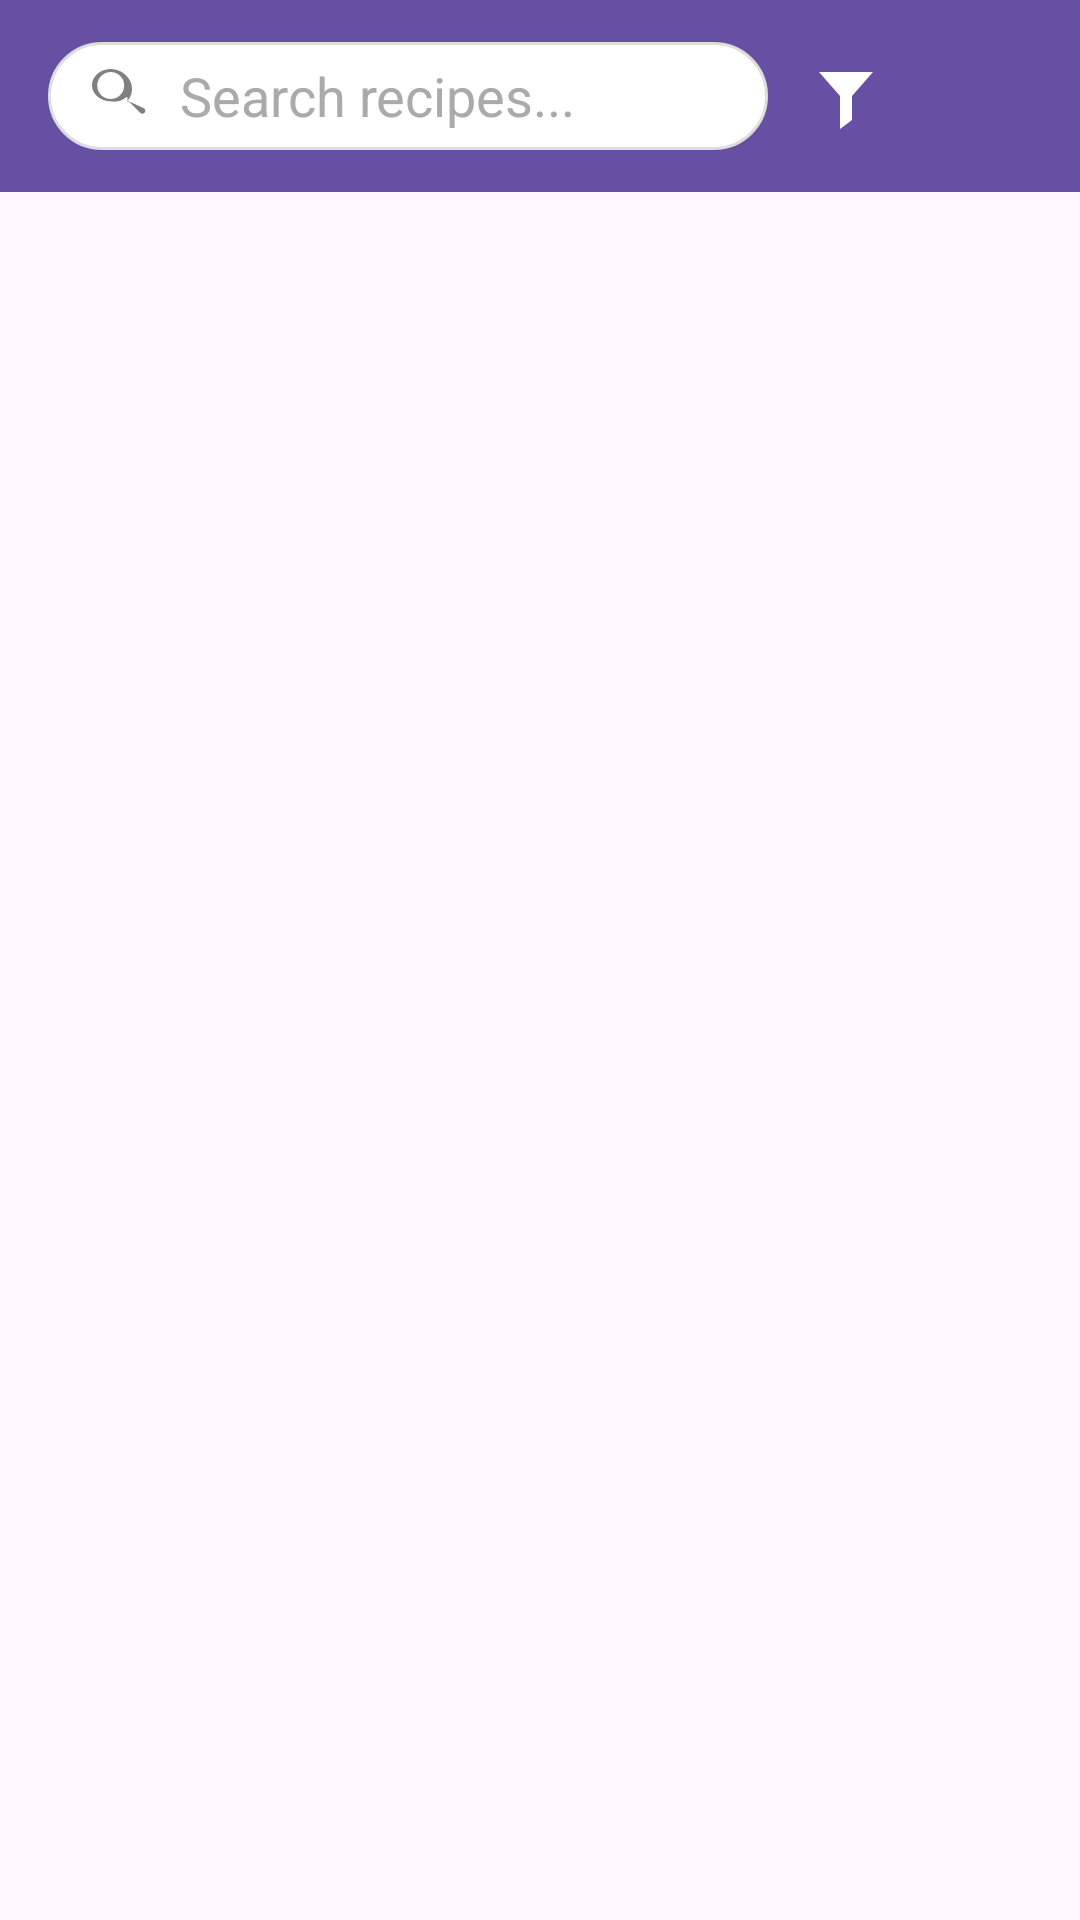

Screen size 1080px×1920px. Icon name, then its center in pixels as (x,y):
Filter: (846,100)
